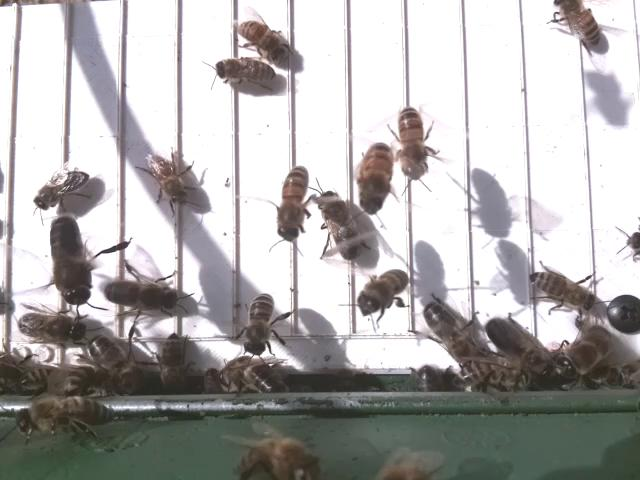Drone: (46, 211, 95, 309), (314, 184, 365, 266), (419, 296, 474, 363), (554, 323, 613, 383), (99, 275, 183, 317), (15, 308, 89, 347), (482, 311, 535, 365)
Worker: (526, 266, 597, 313), (274, 163, 309, 246), (352, 267, 409, 316), (356, 142, 393, 215), (396, 104, 430, 182), (32, 169, 93, 211), (552, 0, 603, 49), (239, 290, 276, 355), (146, 153, 189, 207), (234, 16, 286, 60), (212, 55, 278, 86)
